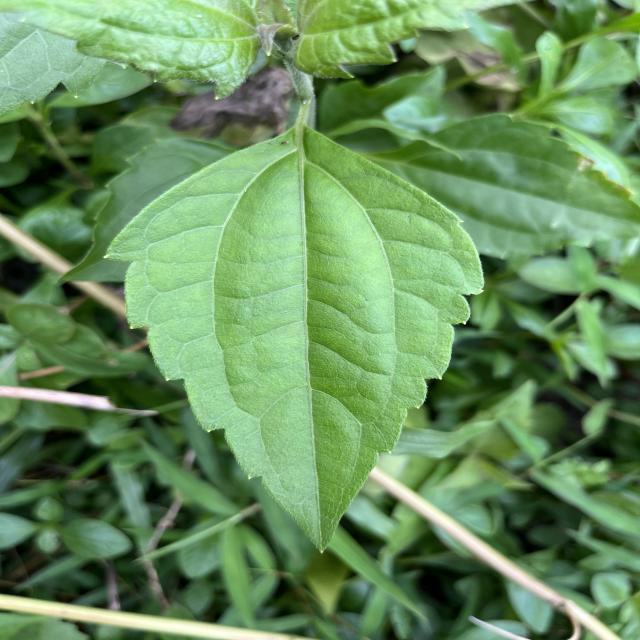Chromolaena odorata: (96, 119, 492, 562)
